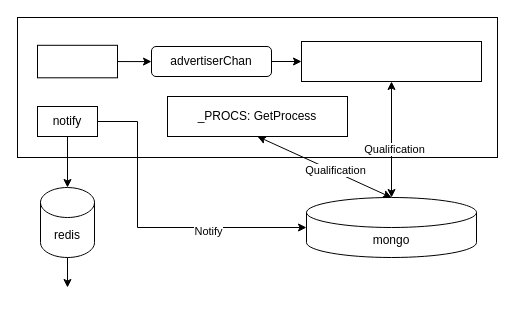
Image size: 515x313. Some labels were removed from this diagram. Here are the shapes that lost their labels. From the top down, the box of each, then its label:
(36, 44, 118, 78): http
(300, 40, 482, 82): _PROCS: BatchAdd
